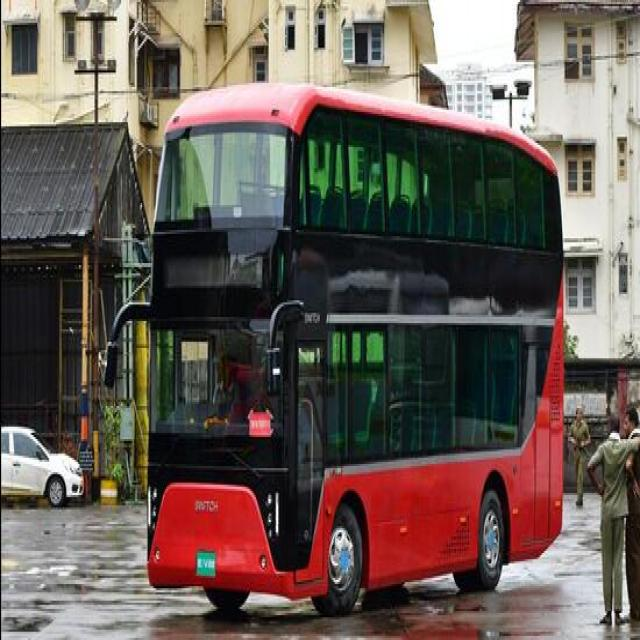bus: (95, 78, 564, 598)
